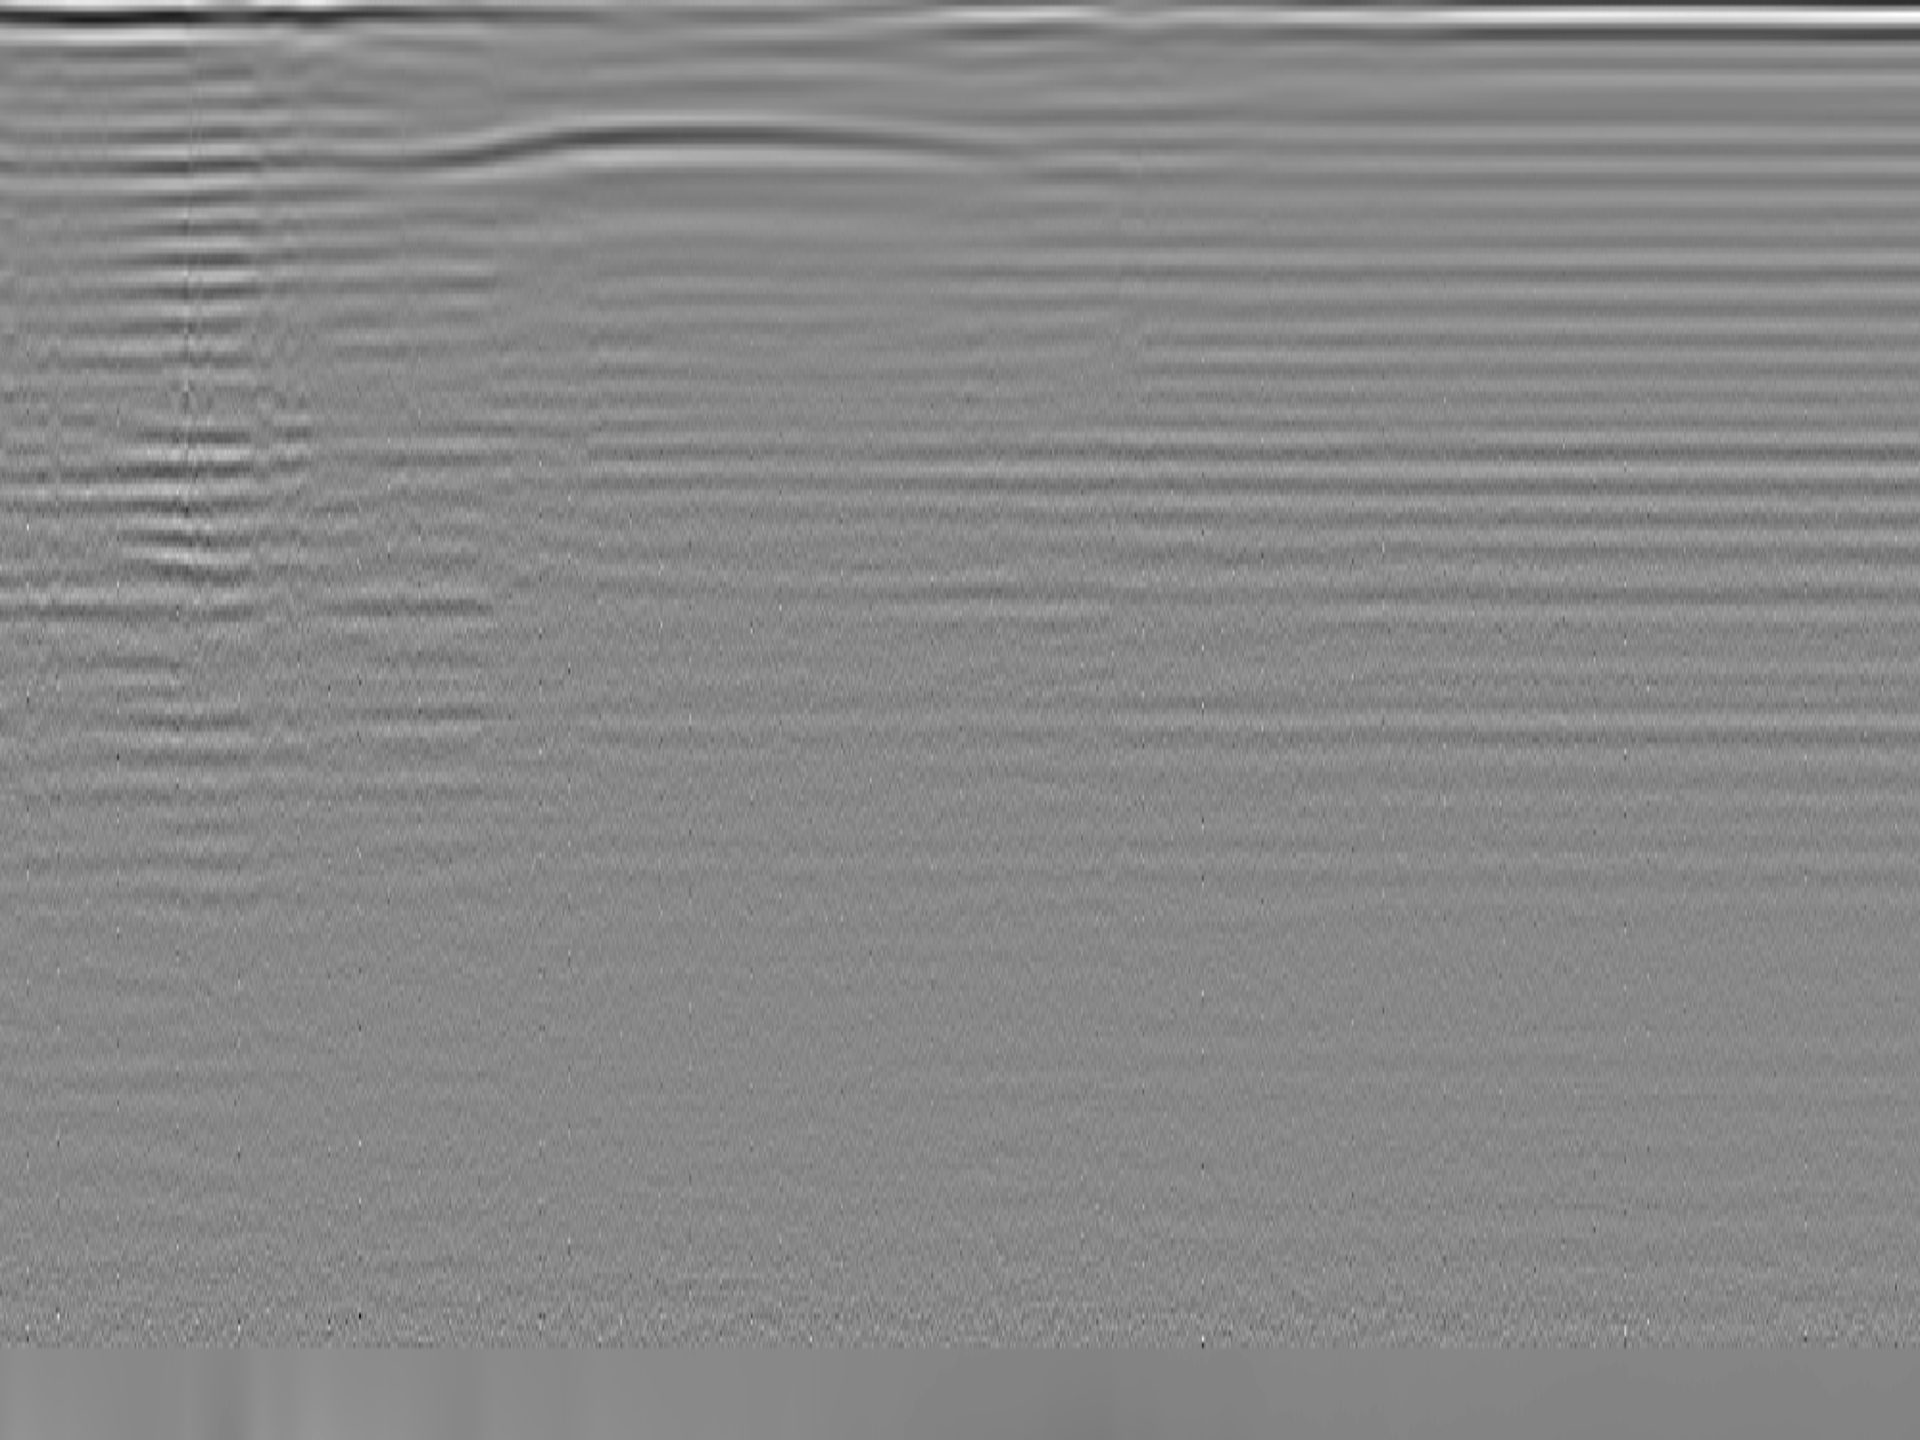Tunnel: (422, 109, 1022, 178)
